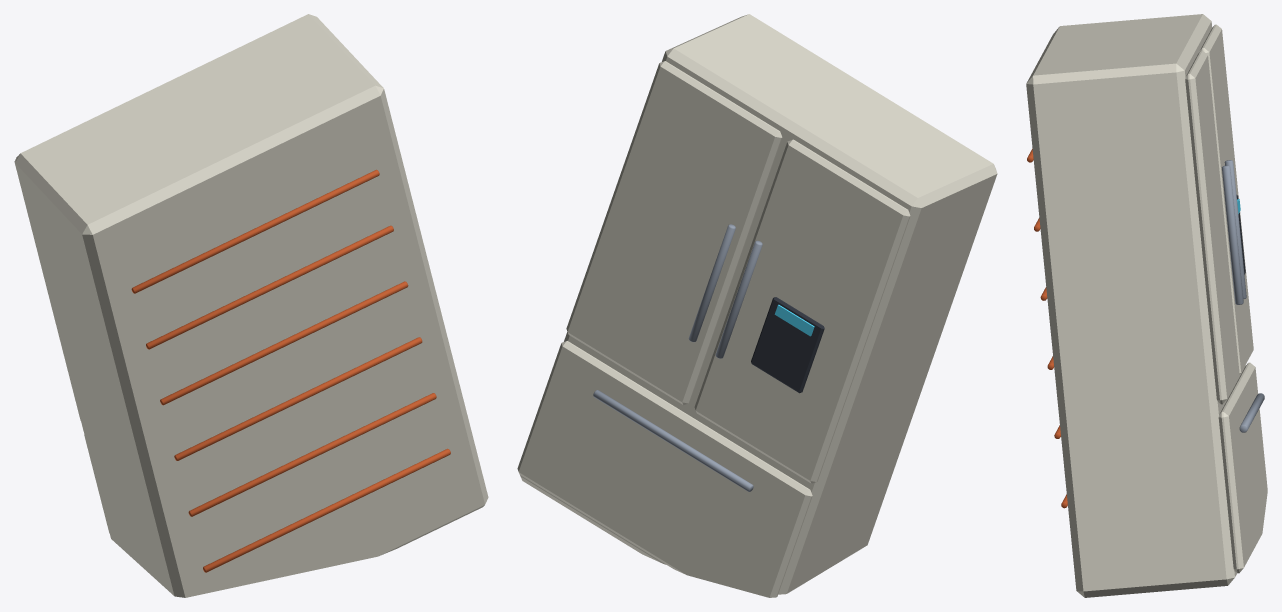
The model's file is noclipped_fridge.obj.
3 views of the same model, side by side, from view 1: azimuth 30°, elevation 25°; view 2: azimuth 150°, elevation 25°; view 3: azimuth 270°, elevation 25° (orthographic). The views are drawn at different scales.
Parts seen in each view (by area): view 1: Body, Coil_2, Coil_1, Coil_3, Coil_5, Coil_0, Coil_4; view 2: Body, DoorUR, DoorBot, DoorUL, Dispenser, HandleBot, HandleUR, HandleUL; view 3: Body, DoorUR, DoorBot, DoorUL, HandleUR, HandleUL, HandleBot.
Boxes of the visible parts, x1,y1,x2,y2 form: Body: (15, 14, 488, 597); Coil_2: (174, 337, 422, 460); Coil_1: (188, 393, 436, 516); Coil_3: (160, 281, 408, 405); Coil_5: (131, 169, 379, 293); Coil_0: (203, 448, 450, 572); Coil_4: (146, 225, 393, 349); Body: (520, 14, 997, 594); DoorUR: (566, 61, 782, 404); DoorBot: (517, 341, 812, 597); DoorUL: (694, 139, 910, 483); Dispenser: (751, 297, 824, 393); HandleBot: (593, 390, 753, 491); HandleUR: (688, 224, 735, 342); HandleUL: (715, 240, 762, 358); Body: (1026, 14, 1245, 597); DoorUR: (1185, 50, 1239, 404); DoorBot: (1218, 362, 1267, 573); DoorUL: (1199, 24, 1253, 374); HandleUR: (1221, 165, 1243, 304); HandleUL: (1224, 160, 1246, 299); HandleBot: (1239, 393, 1264, 432).
Bounding box in the file's own units: 2.43 × 2.82 × 1.24.
